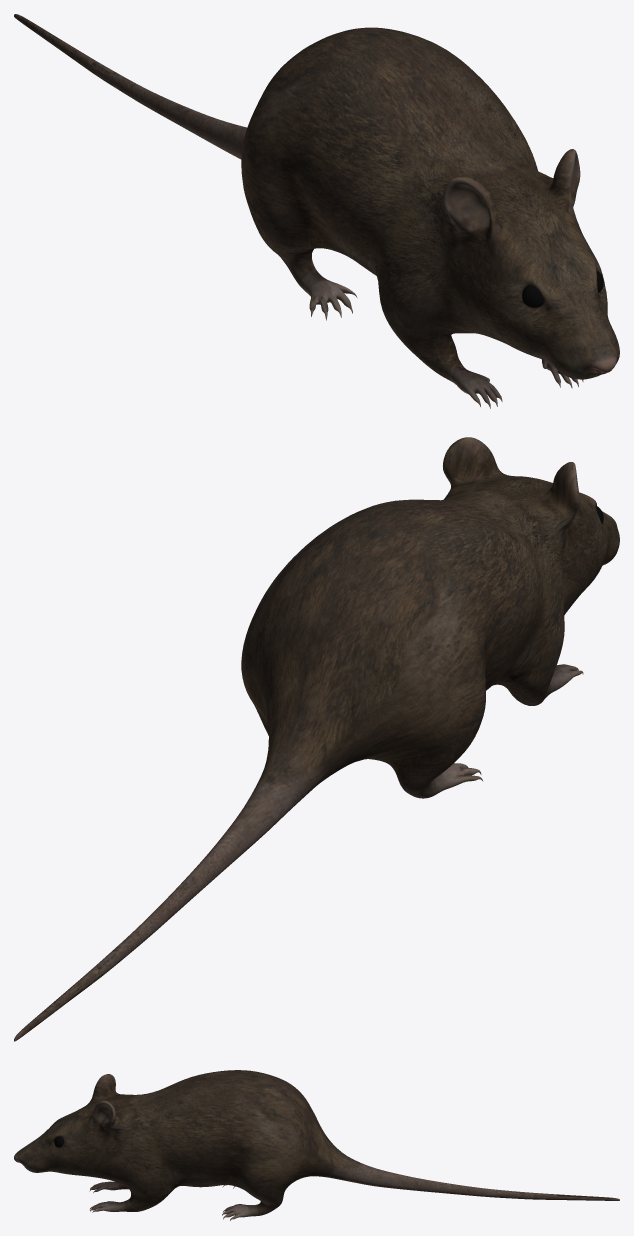
The model's file is rat.glb.
The picture shows the model from 3 angles, top to bottom: view 1: azimuth 30°, elevation 25°; view 2: azimuth 150°, elevation 25°; view 3: azimuth 270°, elevation 25°; orthographic projection. The views are drawn at different scales.
Parts seen in each view (by area): view 1: street_rat_0; view 2: street_rat_0; view 3: street_rat_0.
Part boxes in pixels (x1,y1,x2,y2): street_rat_0: [14, 14, 619, 408]; street_rat_0: [14, 437, 619, 1041]; street_rat_0: [14, 1070, 619, 1220].
Size of the model in its own units: 0.032 by 0.0339 by 0.1483.
Materials: 1 (1 with a texture image).
